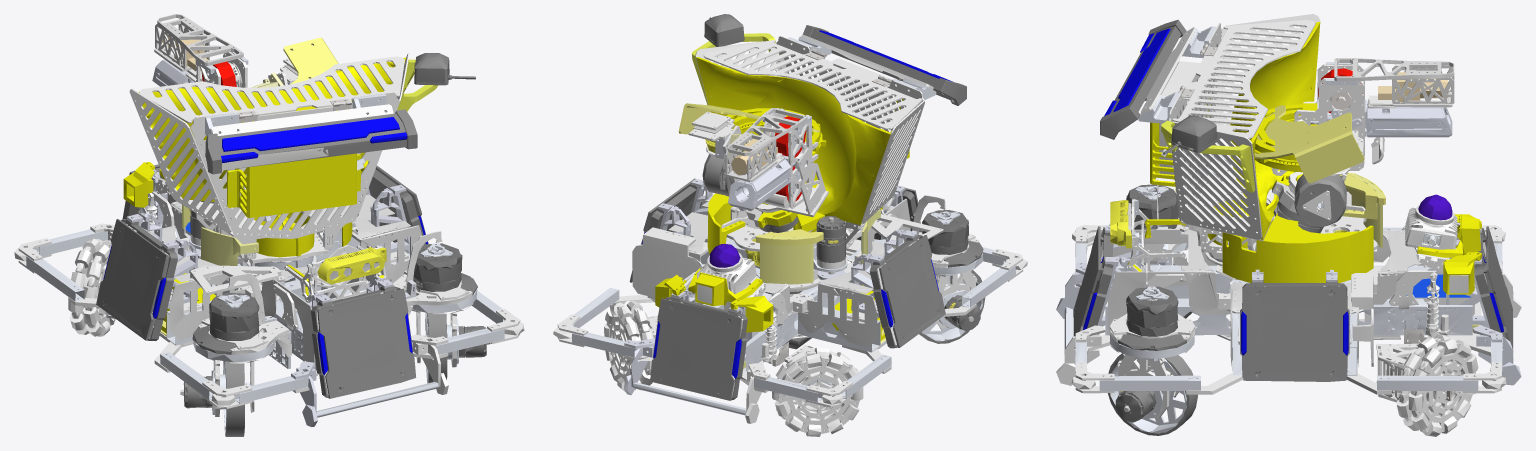
File: 24sentry_simplified.glb
The picture shows the model from 3 angles, left to right: view 1: azimuth 30°, elevation 25°; view 2: azimuth 150°, elevation 25°; view 3: azimuth 270°, elevation 25°; orthographic projection. The views are drawn at different scales.
Parts seen in each view (by area): view 1: CHASSIS, YAW_BASE, GIMBAL_MAIN; view 2: CHASSIS, YAW_BASE, GIMBAL_MAIN; view 3: CHASSIS, YAW_BASE, GIMBAL_MAIN.
Part boxes in pixels (box(x1,y1,x2,y2)): CHASSIS: box(14, 162, 524, 436); YAW_BASE: box(129, 37, 475, 282); GIMBAL_MAIN: box(152, 14, 364, 221); CHASSIS: box(553, 178, 1027, 436); YAW_BASE: box(678, 14, 966, 294); GIMBAL_MAIN: box(688, 108, 828, 232); CHASSIS: box(1056, 177, 1521, 436); YAW_BASE: box(1100, 14, 1385, 283); GIMBAL_MAIN: box(1161, 58, 1454, 245).
Bounding box in the file's own units: 0.4748 × 0.4533 × 0.596.
